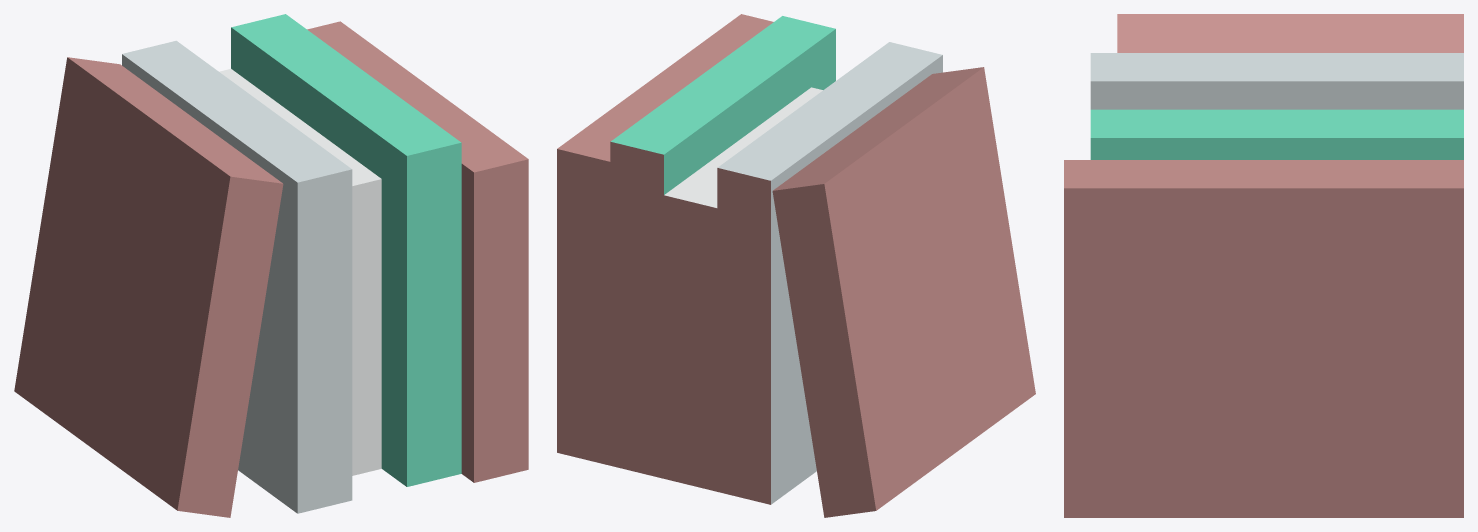
Rendered from kn-books.glb.
3 renders of one model, left to right at view 1: azimuth 30°, elevation 25°; view 2: azimuth 150°, elevation 25°; view 3: azimuth 270°, elevation 25°, orthographic. The views are drawn at different scales.
Visible parts, largest first — view 1: books(Clone); view 2: books(Clone); view 3: books(Clone).
Boxes of the visible parts, <box> form: books(Clone): <box>14,14,528,517</box>; books(Clone): <box>557,14,1035,517</box>; books(Clone): <box>1064,14,1463,517</box>.
Bounding box in the file's own units: 1 × 1 × 1.
